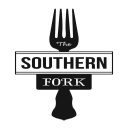Fork: (37, 5, 88, 125)
